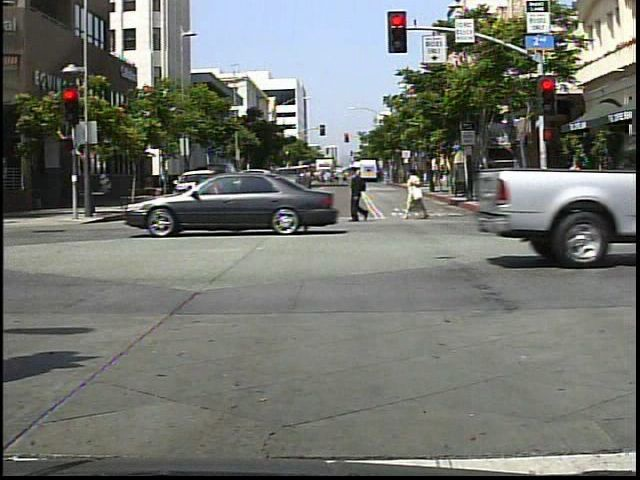person: (343, 163, 378, 227), (403, 162, 435, 226), (199, 165, 231, 226), (565, 158, 587, 208)
